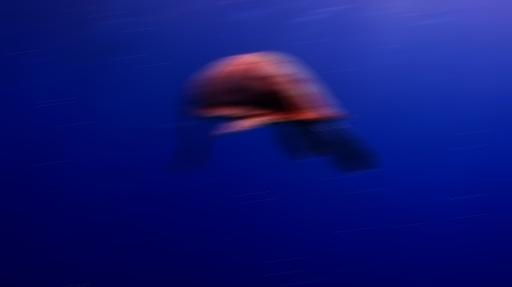Fish: (182, 52, 369, 172)
